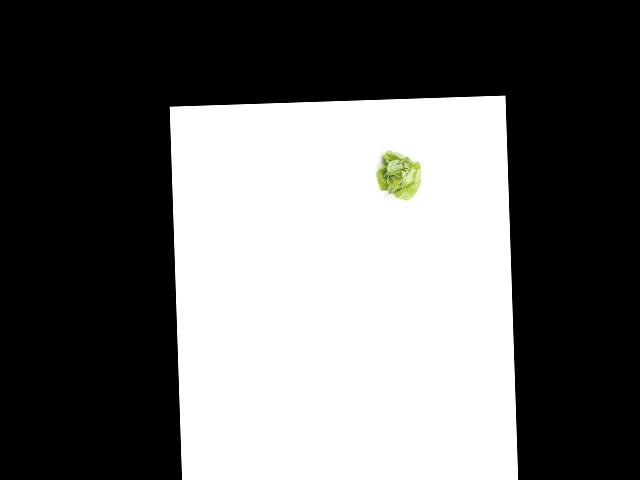lettuce: (372, 148, 426, 202)
